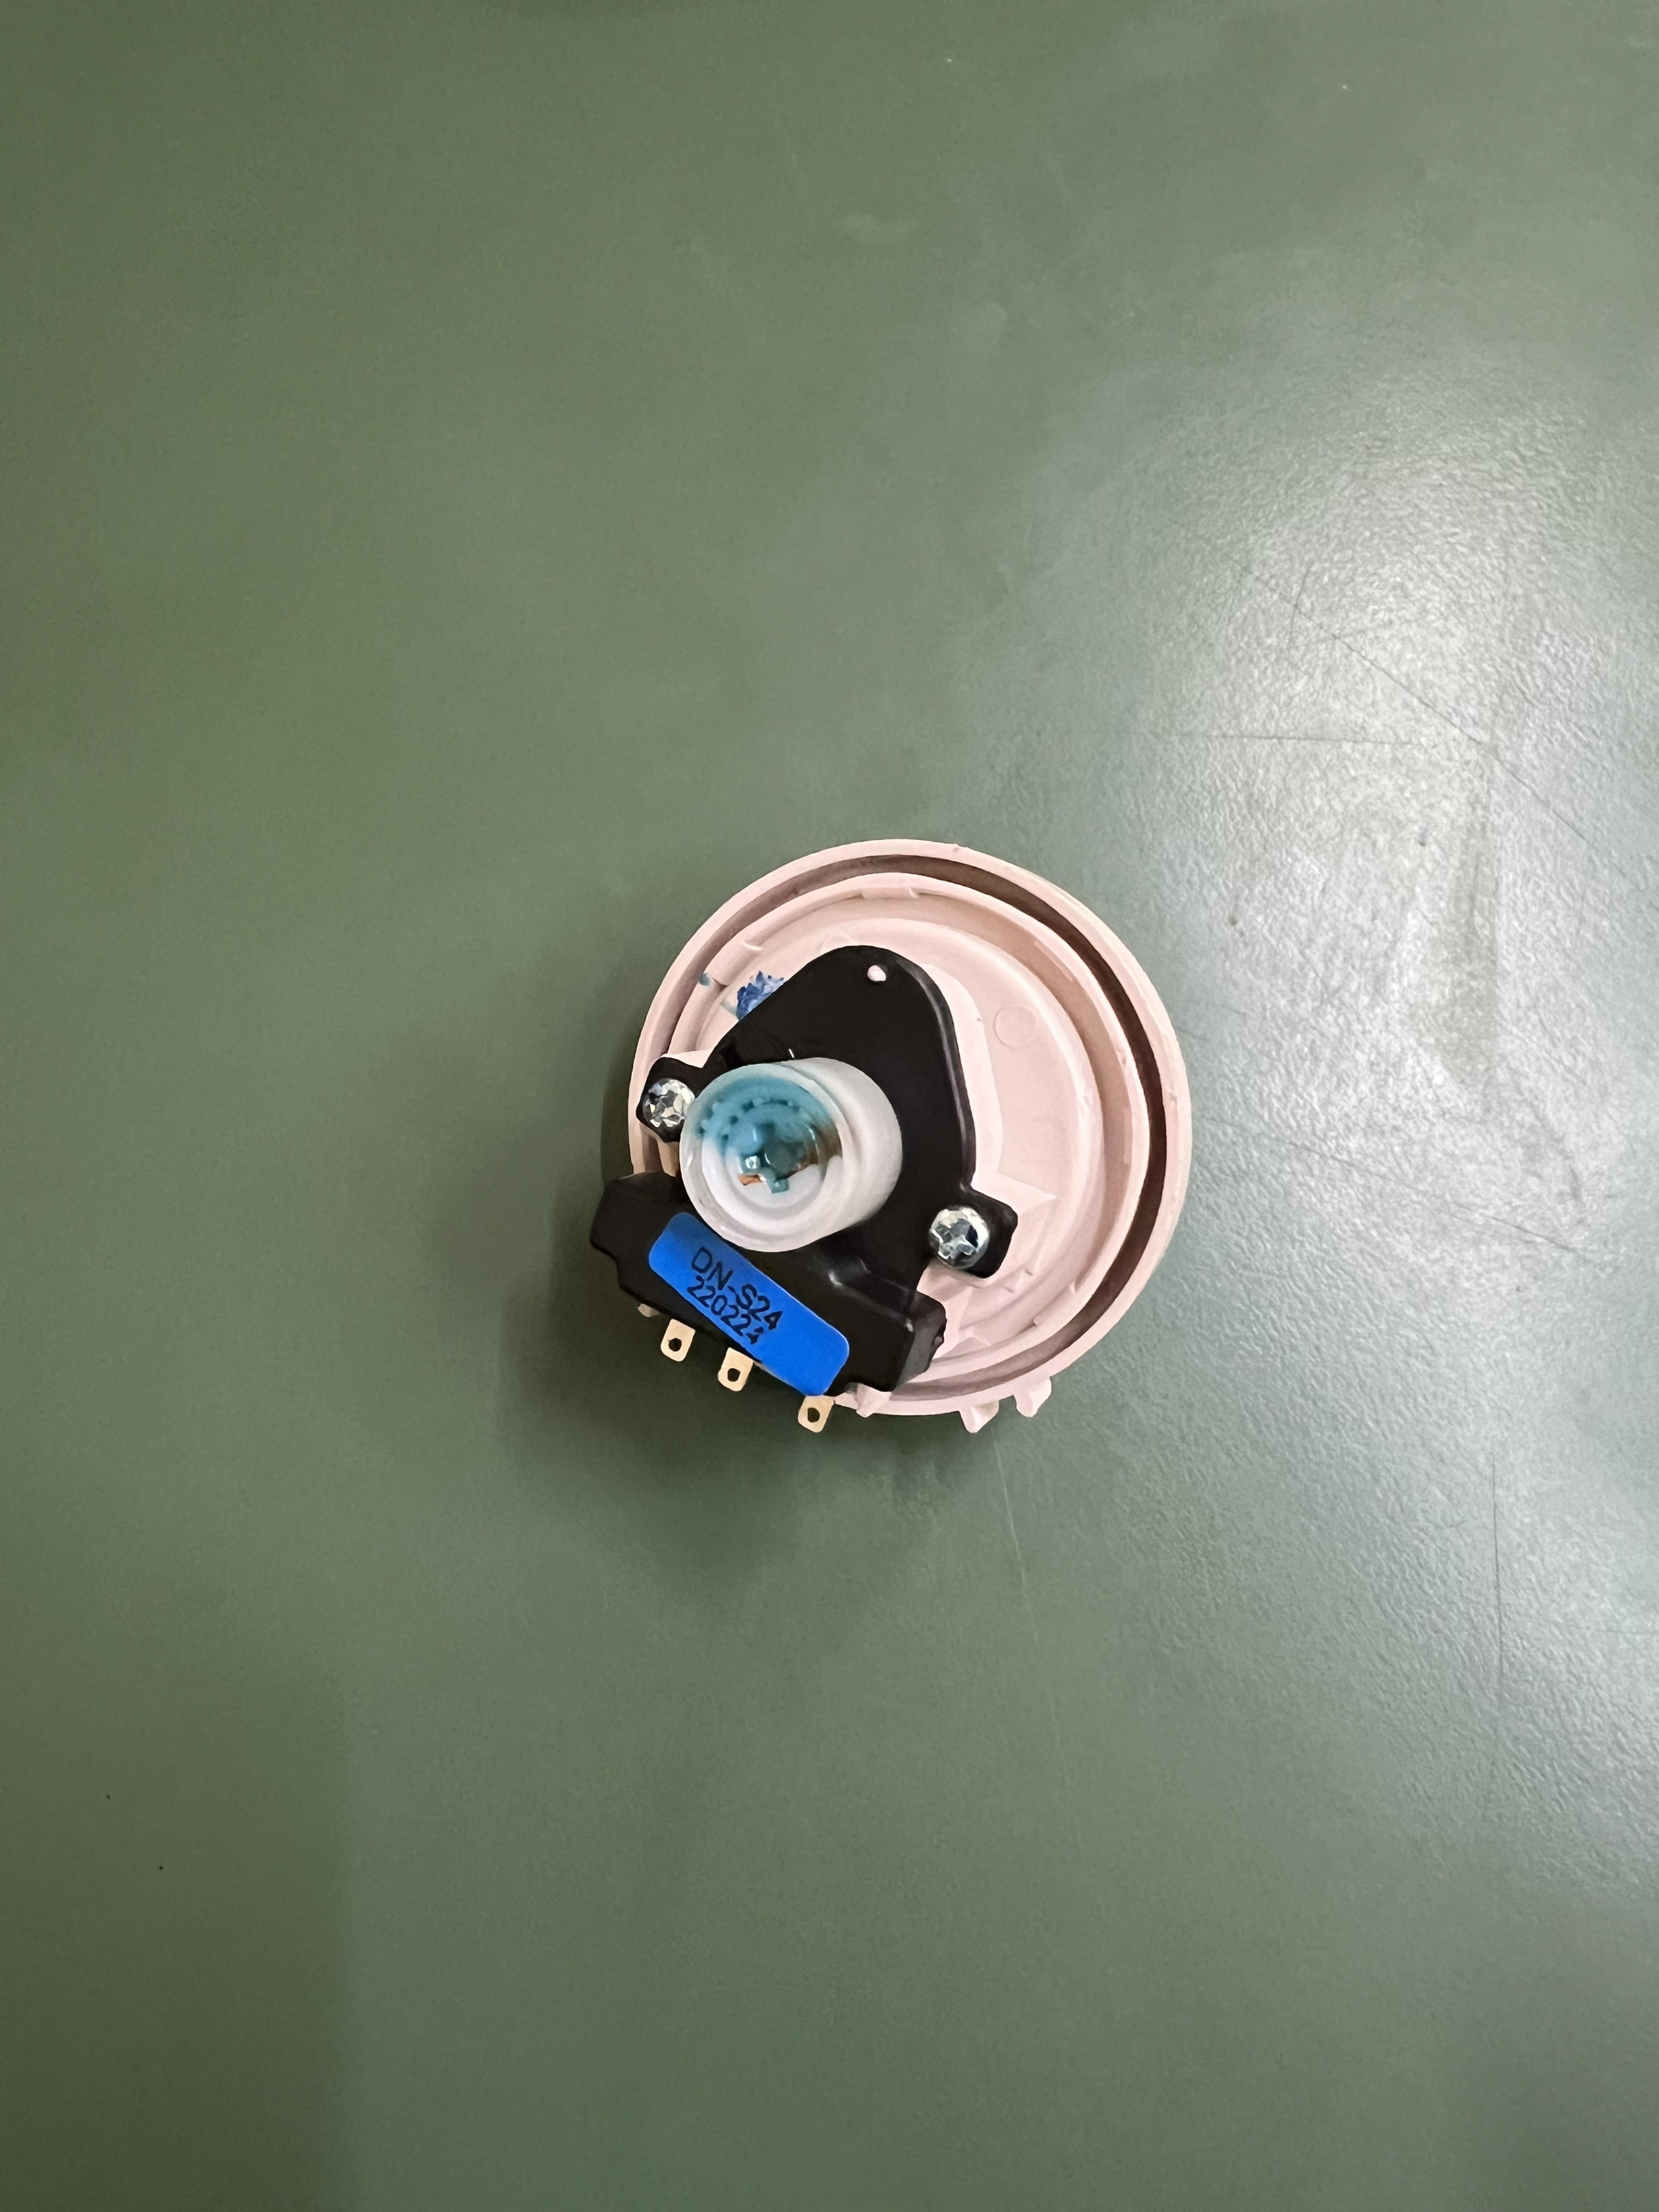pressure_sensor: (563, 822, 1216, 1446)
